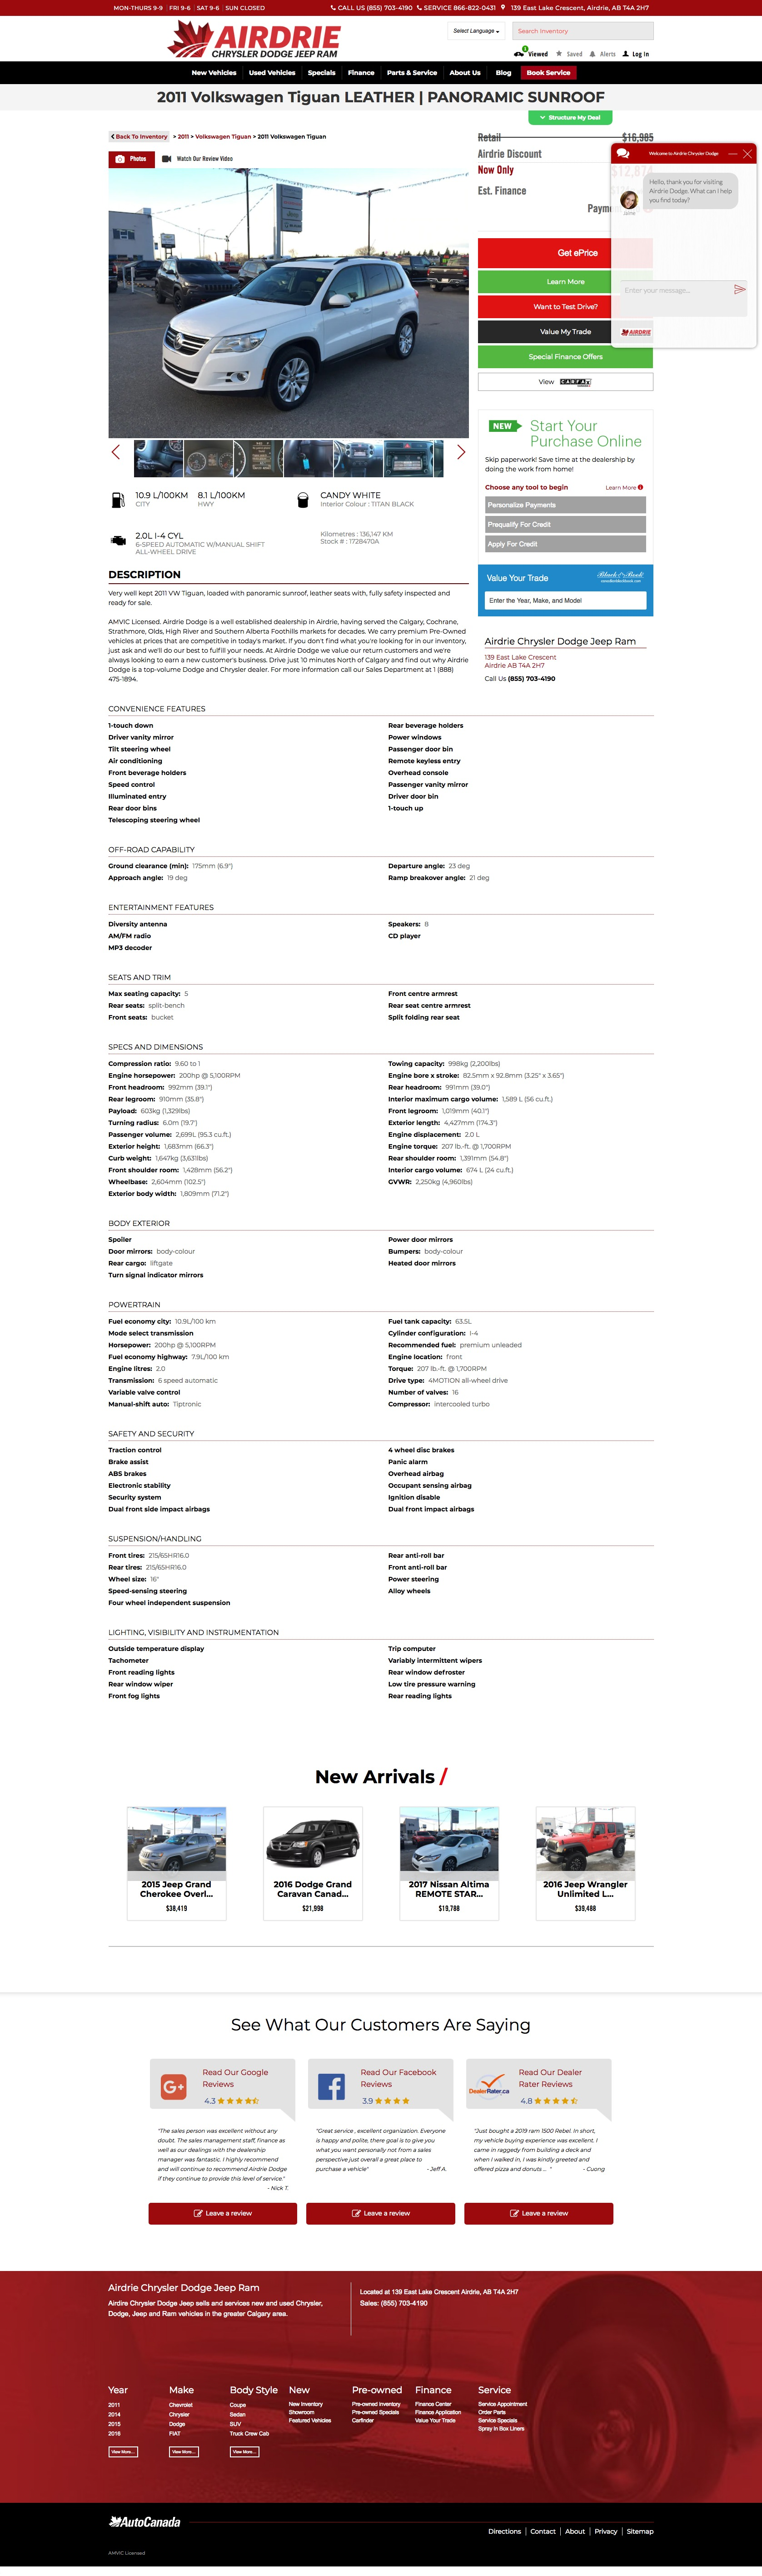car: (455, 444, 466, 462)
